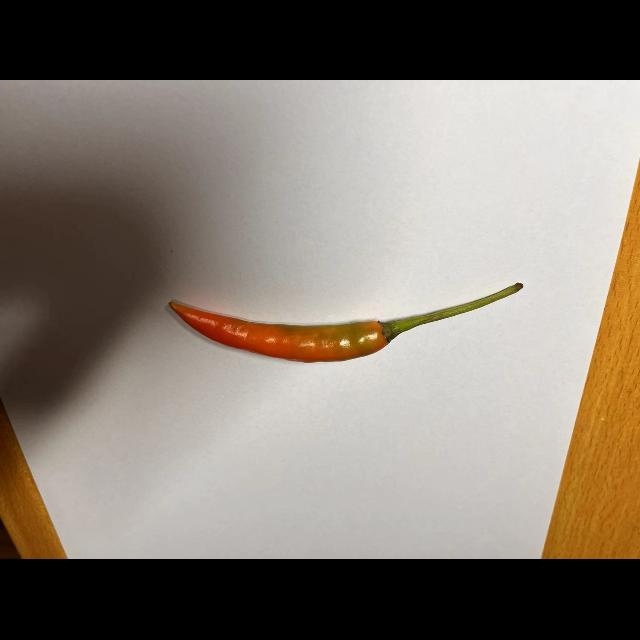chili_pepper: (166, 274, 530, 365)
